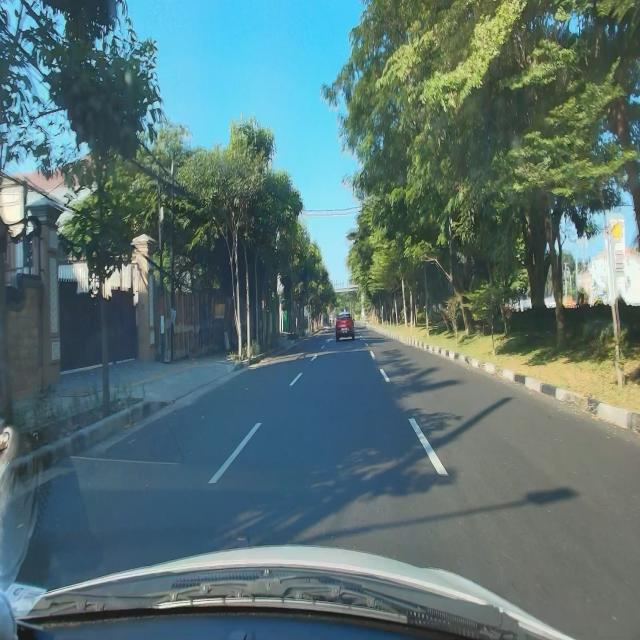car: (335, 312, 355, 342)
